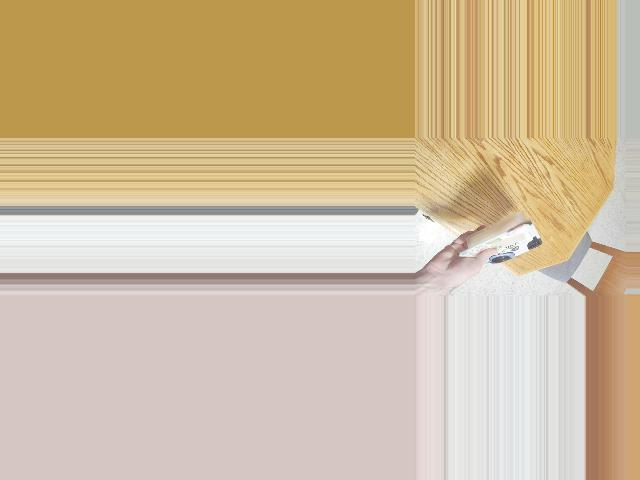cheese: (471, 213, 538, 276)
